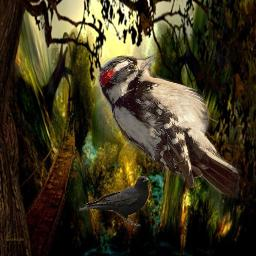Crow: (79, 176, 150, 227)
Woodpecker: (98, 53, 239, 198)
